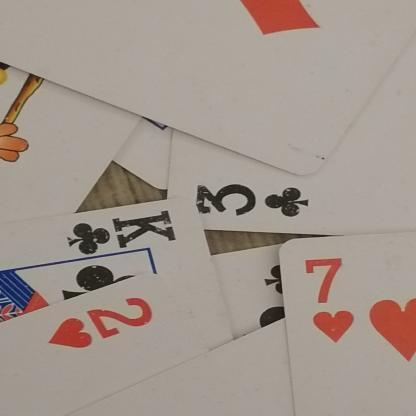2H: (42, 289, 185, 361)
3C: (183, 179, 325, 227)
7H: (294, 244, 379, 350)
KC: (47, 196, 190, 262)
